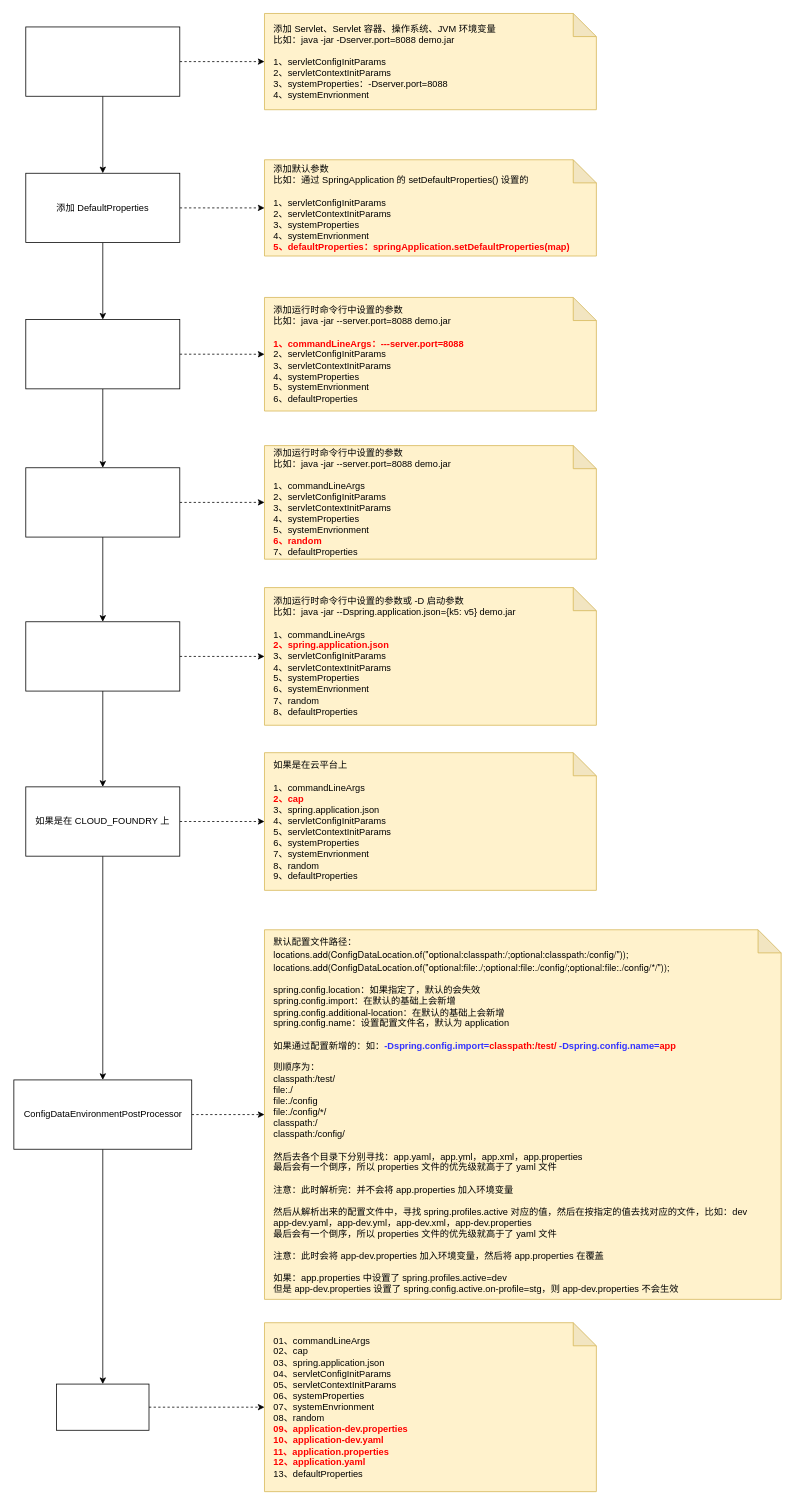
This 795x1505 diagram has some shape labels left out. Here are the shapes that lost their labels. From the top down, the box of each, then its label:
(25, 26, 180, 96): 创建 Environment 对象
(25, 319, 180, 389): 把命令行中的参数封装成 PropertySource，添加到 Environment 中
(25, 467, 180, 537): 添加一个 RandomValuePropertySource
(25, 621, 180, 691): 从已有的环境变量中读取 spring.application.json 的 key
(56, 1383, 149, 1430): 最终顺序
